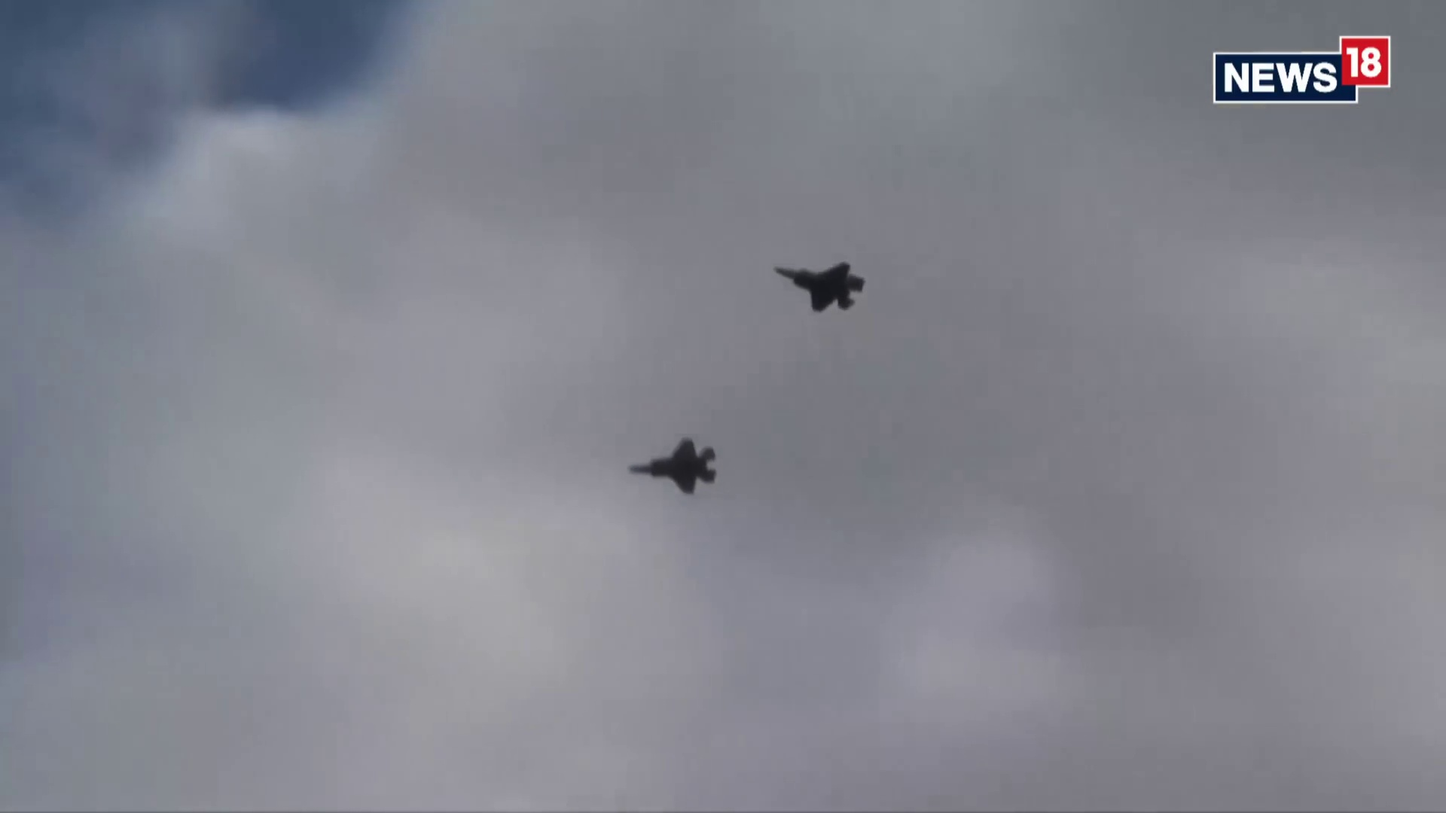F35: (625, 437, 723, 498), (770, 257, 868, 315)
